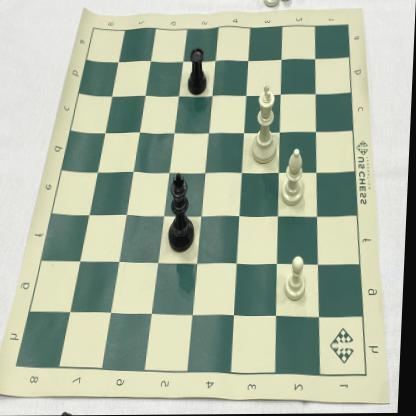black-king: (167, 171, 201, 255)
black-rook: (187, 47, 210, 98)
white-bishop: (282, 147, 309, 207)
white-king: (250, 81, 281, 166)
white-pawn: (287, 254, 312, 305)
